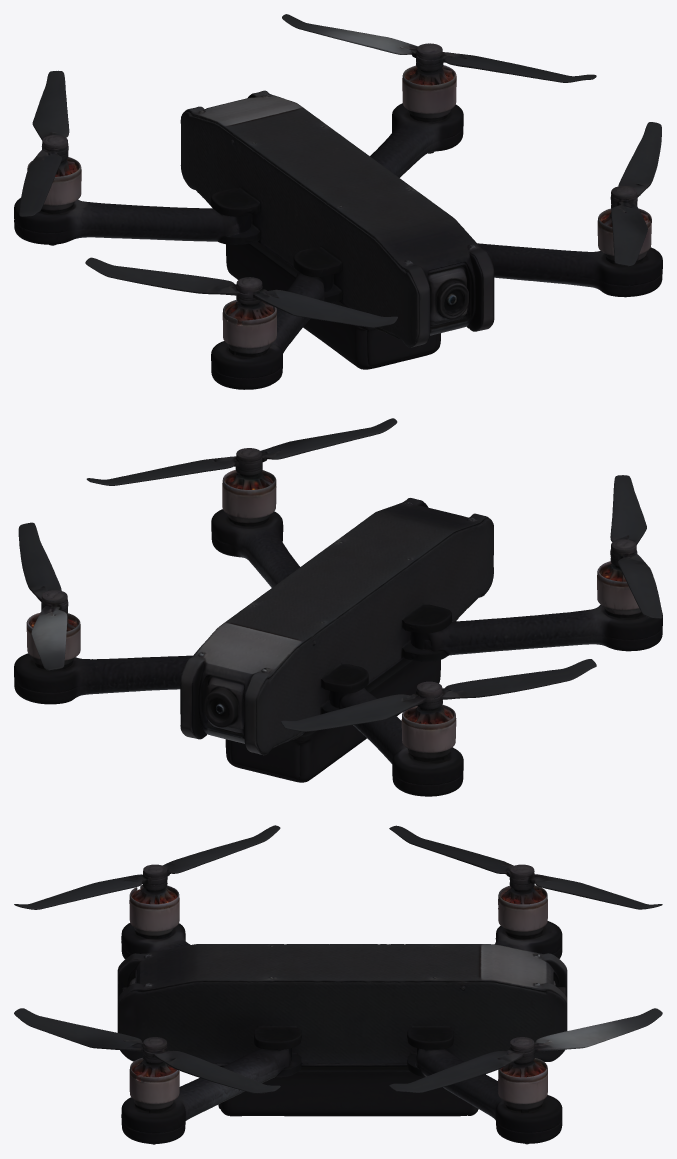
The model's file is FPV_Quadrotor-spinnable.glb.
3 renders of one model, top to bottom at view 1: azimuth 30°, elevation 25°; view 2: azimuth 150°, elevation 25°; view 3: azimuth 270°, elevation 25°, orthographic. The views are drawn at different scales.
Visible parts, largest first — view 1: body, prop_fl, prop_rr, prop_rl, prop_fr; view 2: body, prop_rl, prop_rr, prop_fr, prop_fl; view 3: body, prop_rr, prop_fr, prop_rl, prop_fl.
Boxes of the visible parts, x1=… form: body: x1=14, y1=65, x2=662, y2=389; prop_fl: x1=85, y1=257, x2=397, y2=327; prop_rr: x1=282, y1=14, x2=596, y2=82; prop_rl: x1=19, y1=70, x2=69, y2=216; prop_fr: x1=610, y1=122, x2=661, y2=266; body: x1=14, y1=470, x2=662, y2=796; prop_rl: x1=281, y1=659, x2=596, y2=731; prop_rr: x1=18, y1=522, x2=68, y2=670; prop_fr: x1=86, y1=418, x2=397, y2=485; prop_fl: x1=610, y1=475, x2=662, y2=618; body: x1=117, y1=885, x2=567, y2=1144; prop_rr: x1=389, y1=1008, x2=662, y2=1092; prop_fr: x1=14, y1=1008, x2=280, y2=1093; prop_rl: x1=389, y1=825, x2=662, y2=909; prop_fl: x1=14, y1=825, x2=280, y2=909.
Bounding box in the file's own units: 1.84 × 0.473 × 1.9.
1 material, 1 textured.
